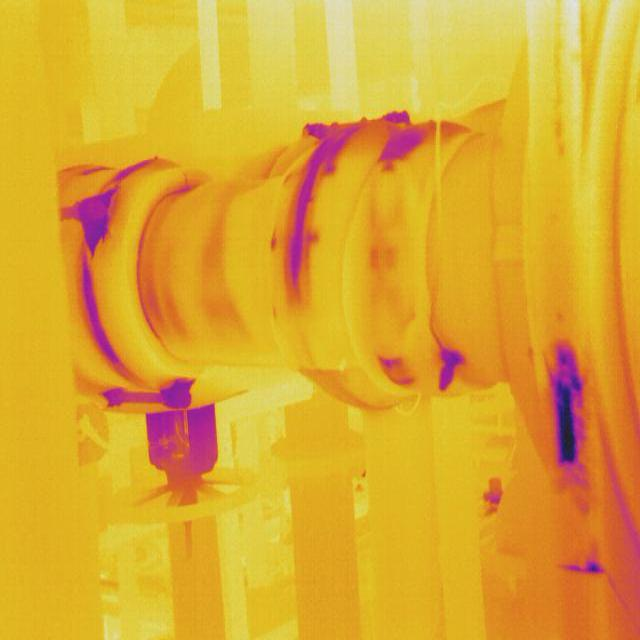leakage: (277, 124, 337, 305), (65, 256, 136, 381), (536, 337, 593, 467), (137, 218, 181, 328), (366, 122, 436, 172), (60, 188, 121, 245), (199, 238, 240, 314), (99, 386, 205, 414), (364, 220, 407, 285), (376, 344, 417, 394), (432, 338, 464, 399)
